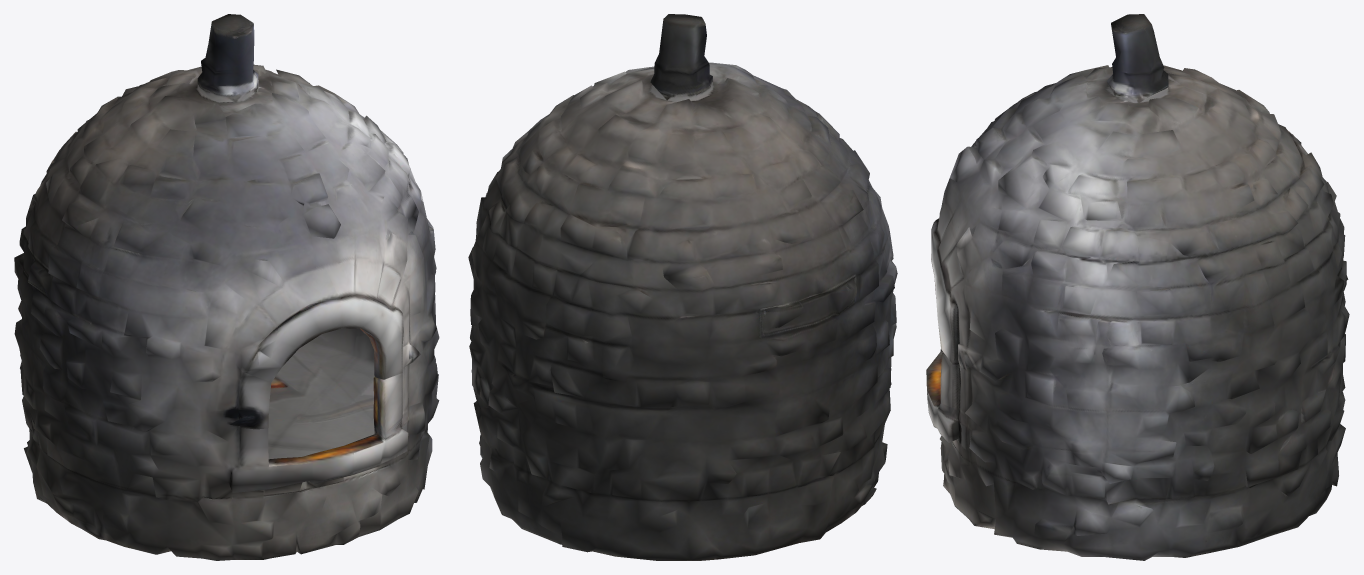
The model's file is A_Pizza_Oven_for_a_pi_0421201256_texture.fbx.
The picture shows the model from 3 angles, left to right: view 1: azimuth 30°, elevation 25°; view 2: azimuth 150°, elevation 25°; view 3: azimuth 270°, elevation 25°; orthographic projection.
Visible parts, largest first — view 1: Mesh_0; view 2: Mesh_0; view 3: Mesh_0.
Part boxes in pixels (<box>): Mesh_0: <box>14,14,439,560</box>; Mesh_0: <box>468,14,897,560</box>; Mesh_0: <box>926,14,1349,560</box>.
Size of the model in its own units: 167 by 199 by 166.
1 material, 1 textured.
